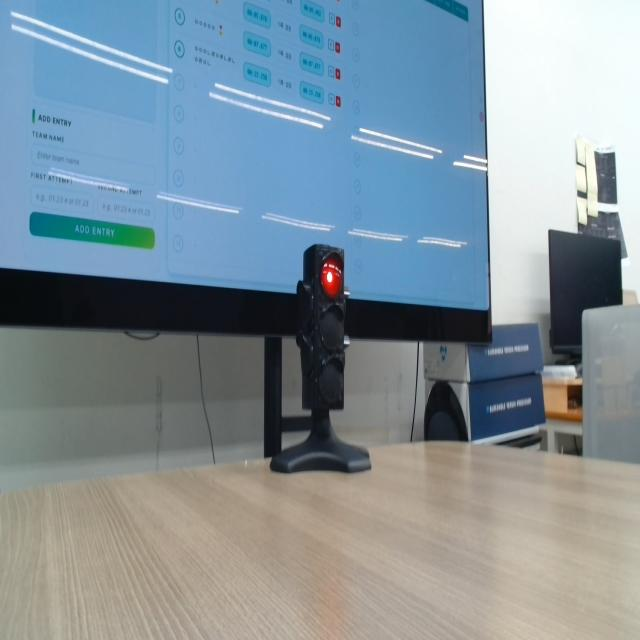red_light: (321, 257, 342, 298)
